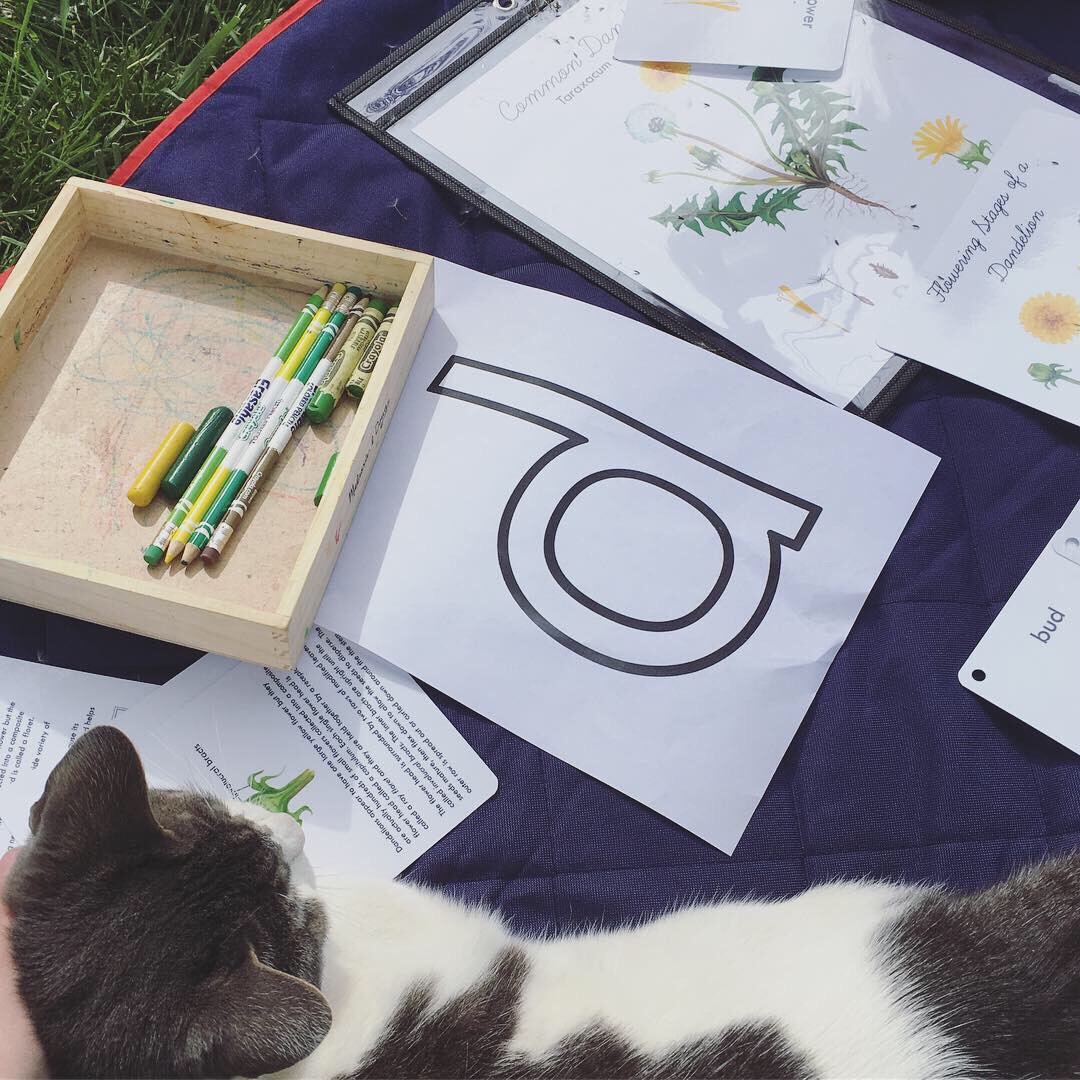dandelion: (906, 106, 976, 162), (632, 60, 701, 95), (1029, 295, 1071, 347)
